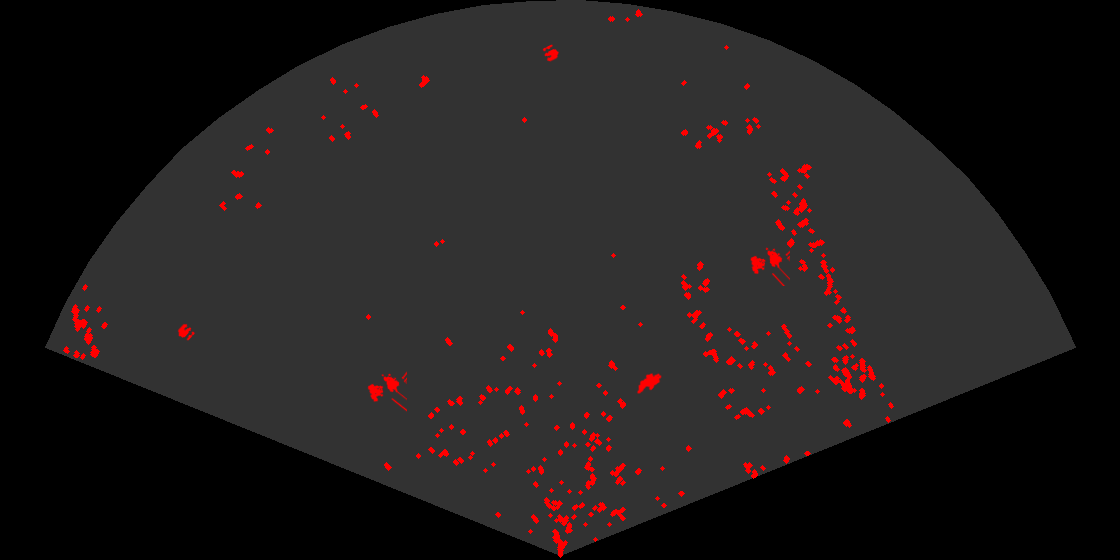AUV: (635, 372, 663, 395)
ball: (176, 322, 196, 342), (541, 43, 560, 63)
cage: (366, 370, 407, 413), (749, 246, 790, 286)
